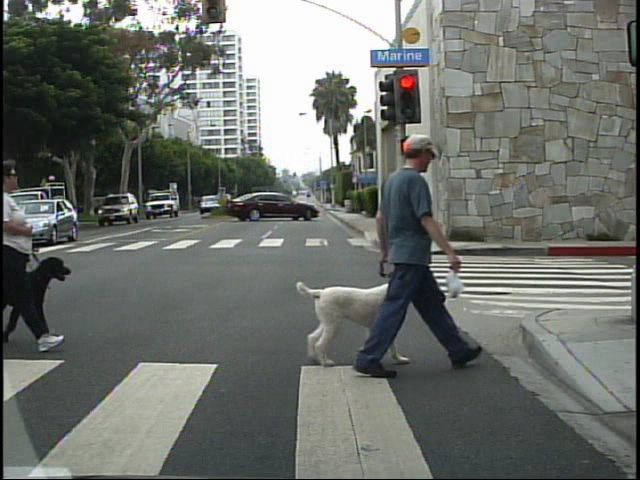person: (348, 110, 475, 378)
